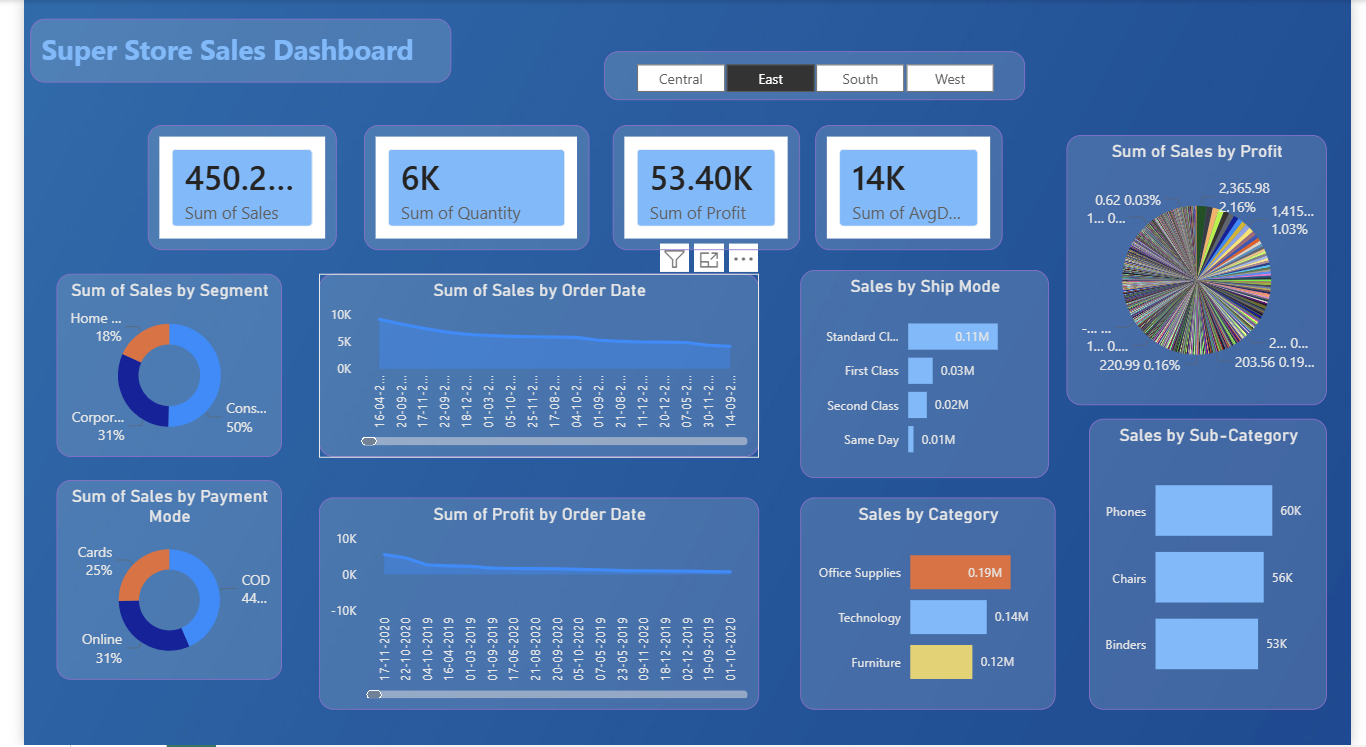

The page's visual inventory and layout, read from the dashboard file:
{"tool":"powerbi","page":{"name":"Page 1","canvas":[1280,720],"ordinal":0},"visuals":[{"type":"clusteredBarChart","title":"Sales by Category","fields":{"Category":["SuperStore_Sales_Dataset.Category"],"Y":["Sum(SuperStore_Sales_Dataset.Sales)"]},"box":[748.7,480,246.2,205.1],"z":0},{"type":"clusteredBarChart","title":"Sales by Sub-Category","fields":{"Category":["SuperStore_Sales_Dataset.Sub-Category"],"Y":["Sum(SuperStore_Sales_Dataset.Sales)"]},"box":[1027.7,404.1,229.7,281],"z":1},{"type":"clusteredBarChart","title":"Sales by Ship Mode","fields":{"Category":["SuperStore_Sales_Dataset.Ship Mode"],"Y":["Sum(SuperStore_Sales_Dataset.Sales)"]},"box":[748.7,260.5,240,201],"z":2},{"type":"stackedAreaChart","fields":{"Category":["SuperStore_Sales_Dataset.Order Date"],"Y":["Sum(SuperStore_Sales_Dataset.Sales)"]},"box":[285.1,264.6,424.6,176.4],"z":3},{"type":"stackedAreaChart","fields":{"Category":["SuperStore_Sales_Dataset.Order Date"],"Y":["Sum(SuperStore_Sales_Dataset.Profit)"]},"box":[285.1,480,424.6,205.1],"z":4},{"type":"donutChart","fields":{"Category":["SuperStore_Sales_Dataset.Segment"],"Y":["Sum(SuperStore_Sales_Dataset.Sales)"]},"box":[30.8,264.6,217.4,176.4],"z":5},{"type":"donutChart","fields":{"Category":["SuperStore_Sales_Dataset.Payment Mode"],"Y":["Sum(SuperStore_Sales_Dataset.Sales)"]},"box":[30.8,463.6,217.4,192.8],"z":6},{"type":"slicer","fields":{"Values":["SuperStore_Sales_Dataset.Region"]},"box":[560,49.2,406.2,47.2],"z":7},{"type":"textbox","box":[6.2,18.5,406.2,61.5],"z":8},{"type":"cardVisual","fields":{"Data":["Sum(SuperStore_Sales_Dataset.Sales)"]},"box":[119,121,182.6,121],"z":9},{"type":"cardVisual","fields":{"Data":["Sum(SuperStore_Sales_Dataset.Profit)"]},"box":[568.2,121,180.5,121],"z":10},{"type":"cardVisual","fields":{"Data":["Sum(SuperStore_Sales_Dataset.AvgDelivery)"]},"box":[763.1,121,180.5,121],"z":11},{"type":"cardVisual","fields":{"Data":["Sum(SuperStore_Sales_Dataset.Quantity)"]},"box":[328.2,121,217.4,121],"z":12},{"type":"pieChart","fields":{"Category":["SuperStore_Sales_Dataset.Profit"],"Y":["Sum(SuperStore_Sales_Dataset.Sales)"]},"box":[1005.8,130.4,251.1,260.7],"z":13}]}

Visuals, with their boxes in screenshot pixels (x1, y1, x2, y2), scaled from the page's 1280x720 canvas onto the 1366x747 screenshot:
"Sales by Category" clusteredBarChart: BBox(799, 498, 1062, 711)
"Sales by Sub-Category" clusteredBarChart: BBox(1097, 419, 1342, 711)
"Sales by Ship Mode" clusteredBarChart: BBox(799, 270, 1055, 479)
stackedAreaChart - SuperStore_Sales_Dataset.Order Date x Sum(SuperStore_Sales_Dataset.Sales): BBox(304, 275, 757, 458)
stackedAreaChart - SuperStore_Sales_Dataset.Order Date x Sum(SuperStore_Sales_Dataset.Profit): BBox(304, 498, 757, 711)
donutChart - SuperStore_Sales_Dataset.Segment x Sum(SuperStore_Sales_Dataset.Sales): BBox(33, 275, 265, 458)
donutChart - SuperStore_Sales_Dataset.Payment Mode x Sum(SuperStore_Sales_Dataset.Sales): BBox(33, 481, 265, 681)
slicer - SuperStore_Sales_Dataset.Region: BBox(598, 51, 1031, 100)
textbox: BBox(7, 19, 440, 83)
cardVisual - Sum(SuperStore_Sales_Dataset.Sales): BBox(127, 126, 322, 251)
cardVisual - Sum(SuperStore_Sales_Dataset.Profit): BBox(606, 126, 799, 251)
cardVisual - Sum(SuperStore_Sales_Dataset.AvgDelivery): BBox(814, 126, 1007, 251)
cardVisual - Sum(SuperStore_Sales_Dataset.Quantity): BBox(350, 126, 582, 251)
pieChart - SuperStore_Sales_Dataset.Profit x Sum(SuperStore_Sales_Dataset.Sales): BBox(1073, 135, 1341, 406)
